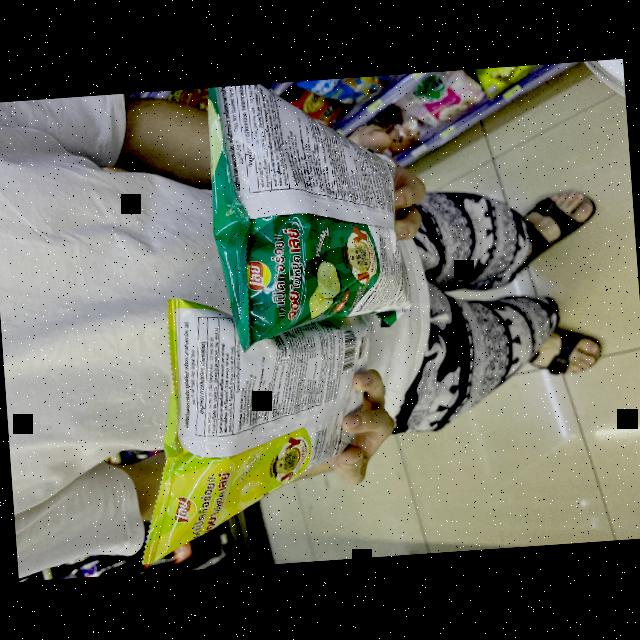snack_bag: (119, 288, 398, 565), (194, 74, 411, 350)
